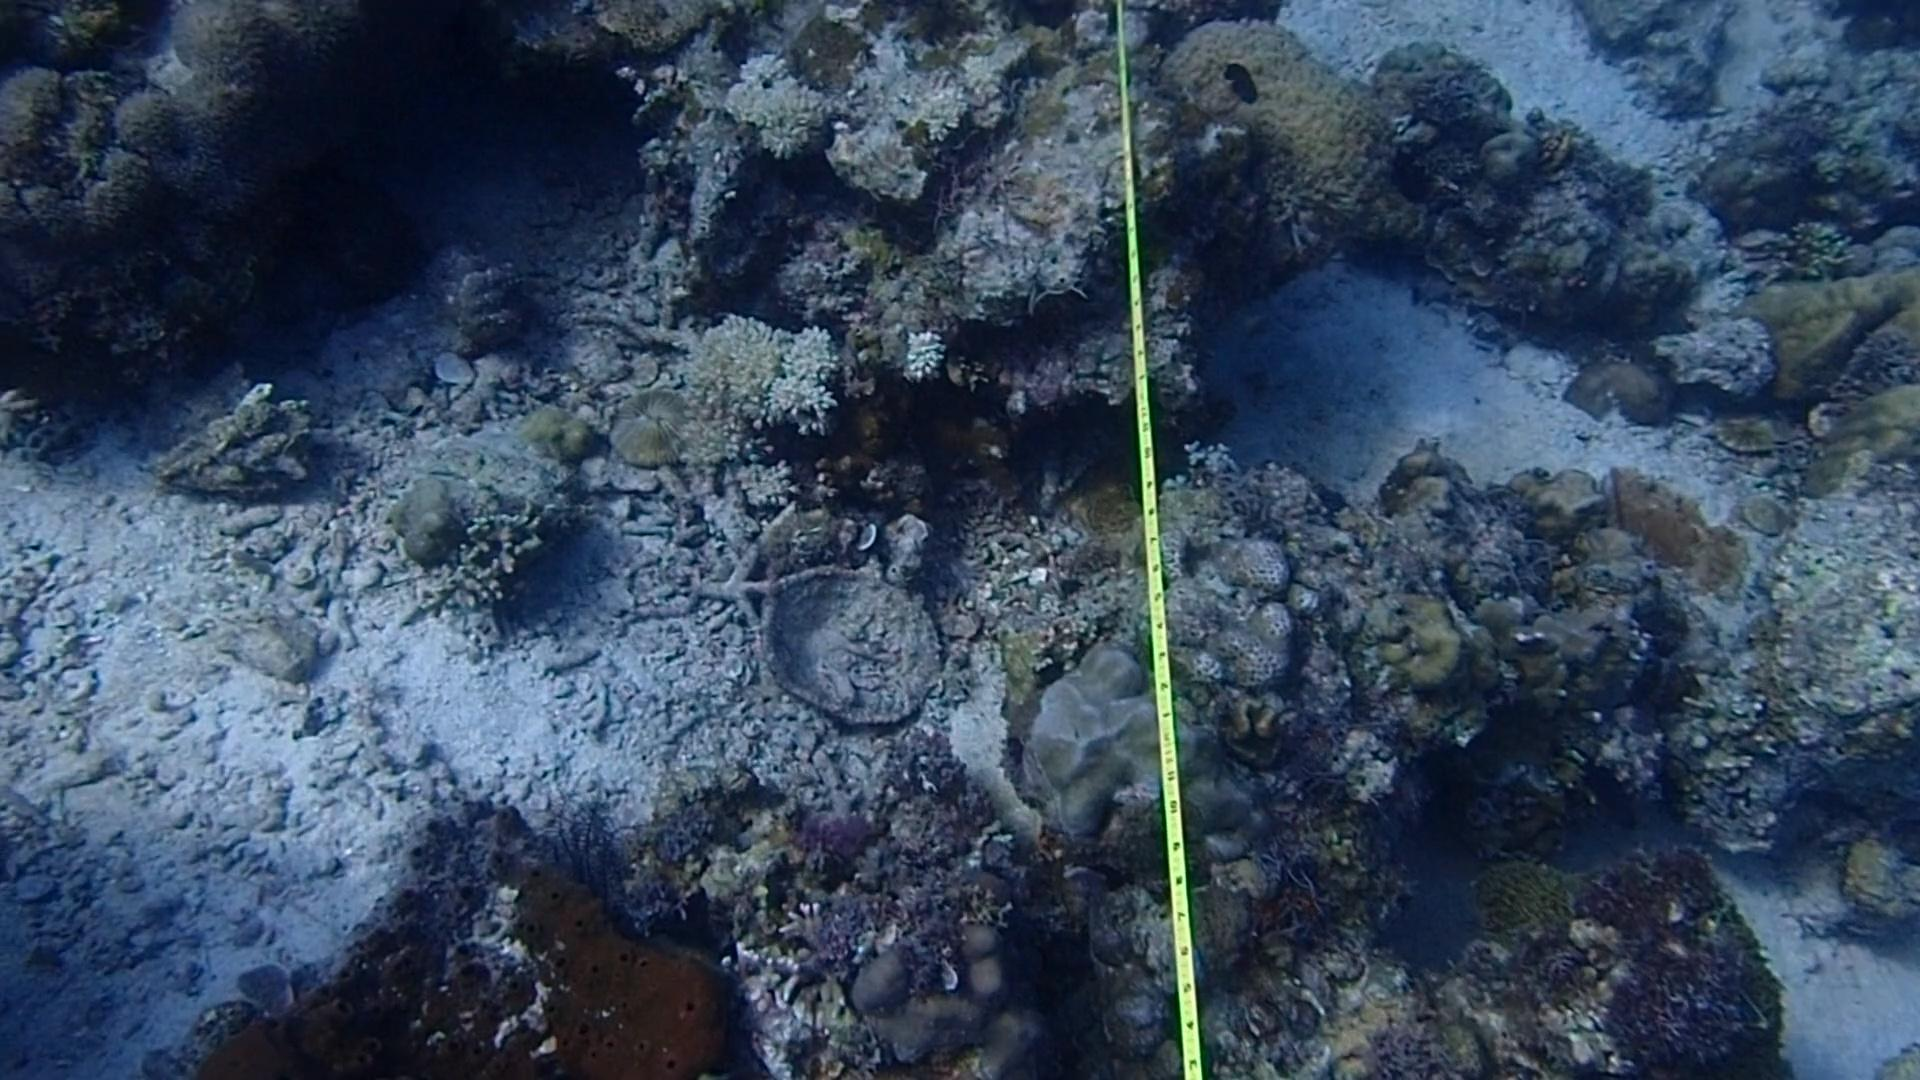Dark Fish: (1571, 749, 1650, 840), (1370, 131, 1435, 211), (1208, 50, 1265, 112)
